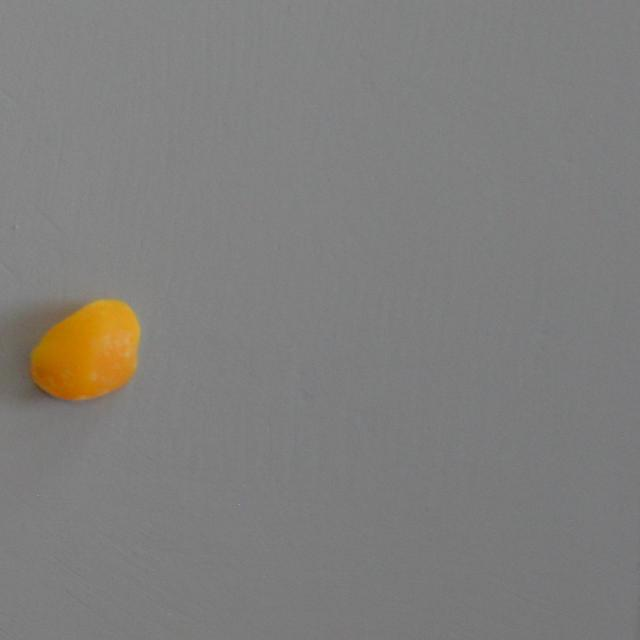dañado: (20, 292, 143, 403)
